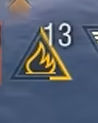1fire: (9, 49, 73, 83)
